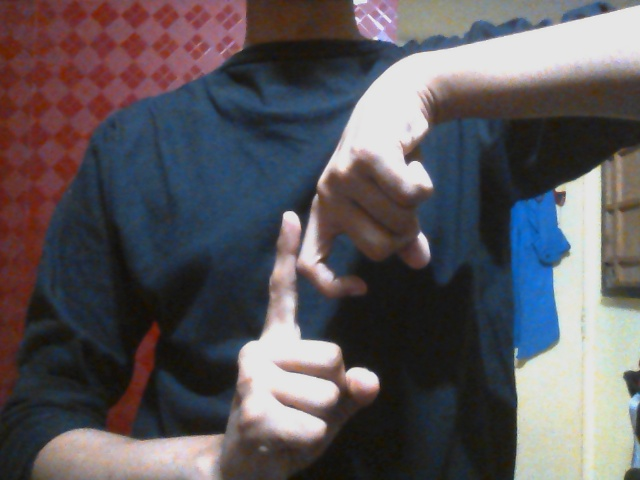K: (233, 144, 422, 454)
